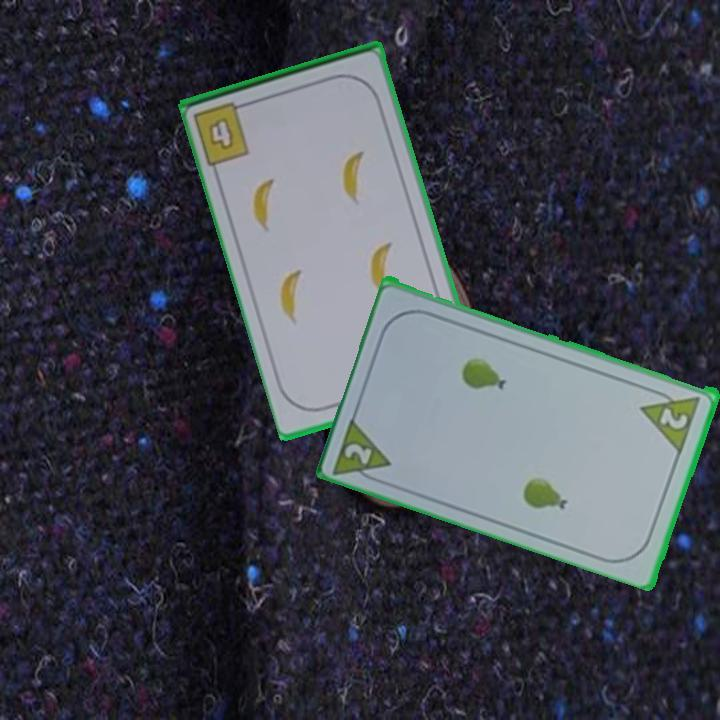2p: (656, 403, 691, 432), (341, 439, 376, 467)
4b: (190, 98, 254, 168)
